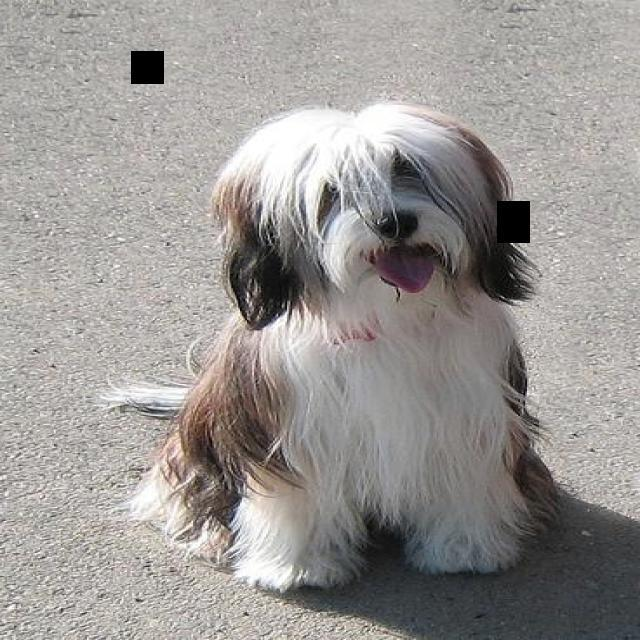adult_dog: (99, 97, 561, 596)
